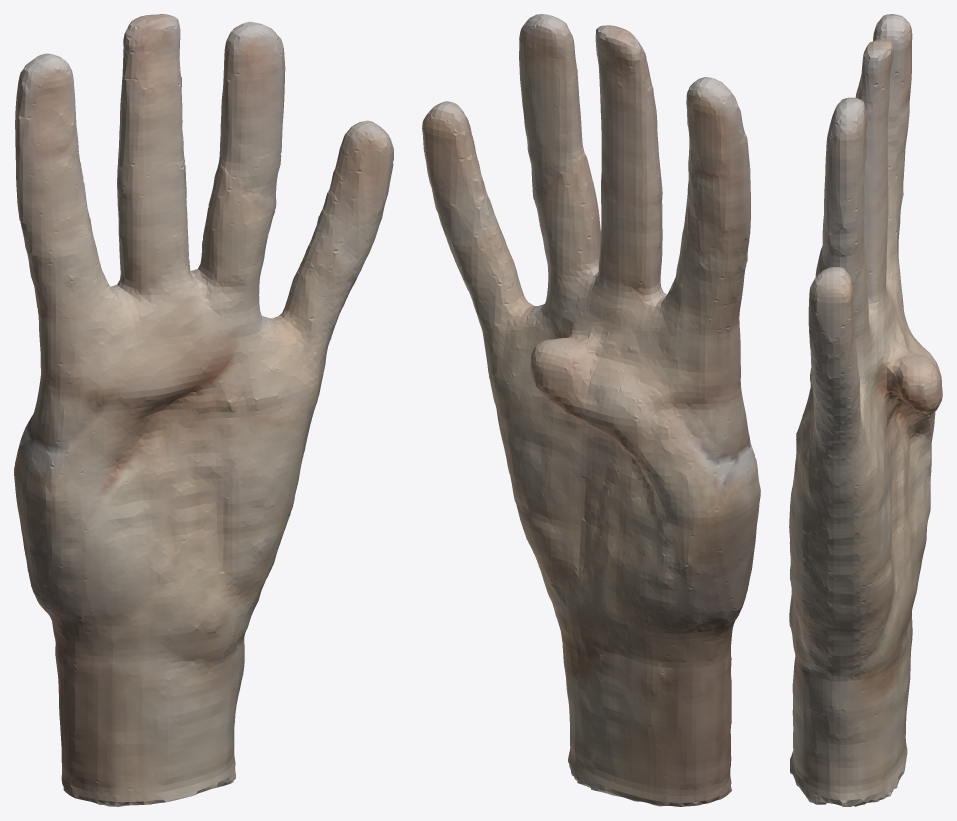
The model's file is ASL4.glb.
3 views of the same model, side by side, from view 1: azimuth 30°, elevation 25°; view 2: azimuth 150°, elevation 25°; view 3: azimuth 270°, elevation 25° (orthographic). The views are drawn at different scales.
Visible parts, largest first — view 1: world; view 2: world; view 3: world.
Boxes of the visible parts, x1=… form: world: x1=14, y1=14, x2=393, y2=806; world: x1=422, y1=14, x2=760, y2=806; world: x1=789, y1=14, x2=942, y2=806.
Size of the model in its own units: 0.9629 by 2 by 0.378.
